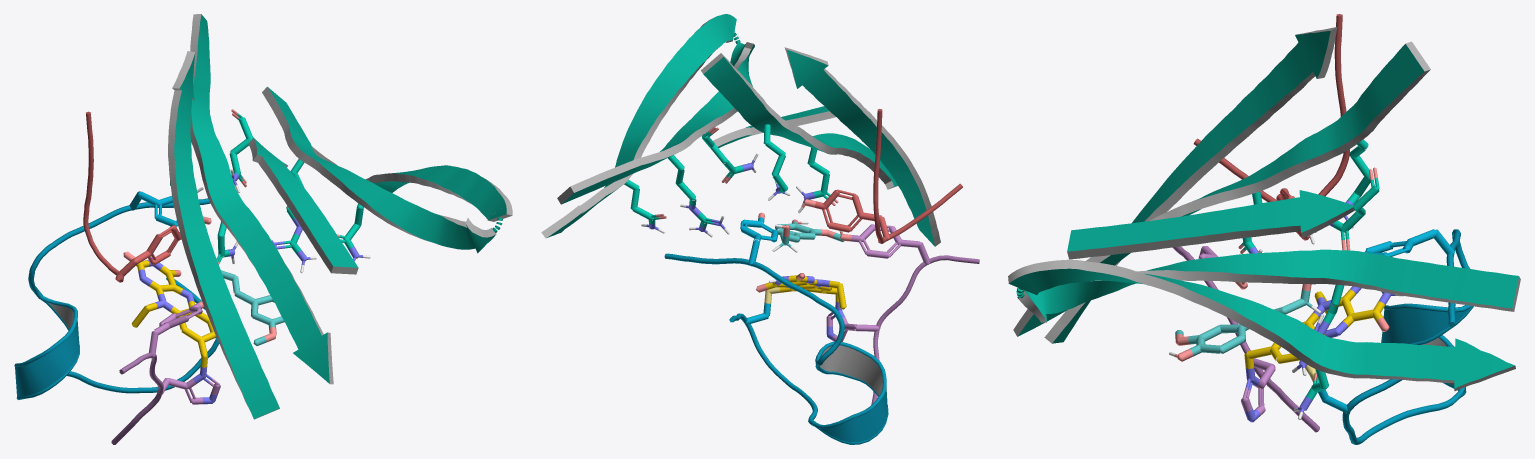
File: BBE15binding.gltf
The picture shows the model from 3 angles, left to right: view 1: azimuth 30°, elevation 25°; view 2: azimuth 150°, elevation 25°; view 3: azimuth 270°, elevation 25°; orthographic projection. The views are drawn at different scales.
Parts seen in each view (by area): view 1: node-geom201; view 2: node-geom201; view 3: node-geom201.
Boxes of the visible parts, bbox=[...] form: node-geom201: bbox=[14, 14, 512, 444]; node-geom201: bbox=[541, 14, 979, 444]; node-geom201: bbox=[1008, 14, 1520, 444].
Bounding box in the file's own units: 26.76 × 28.94 × 29.08.
